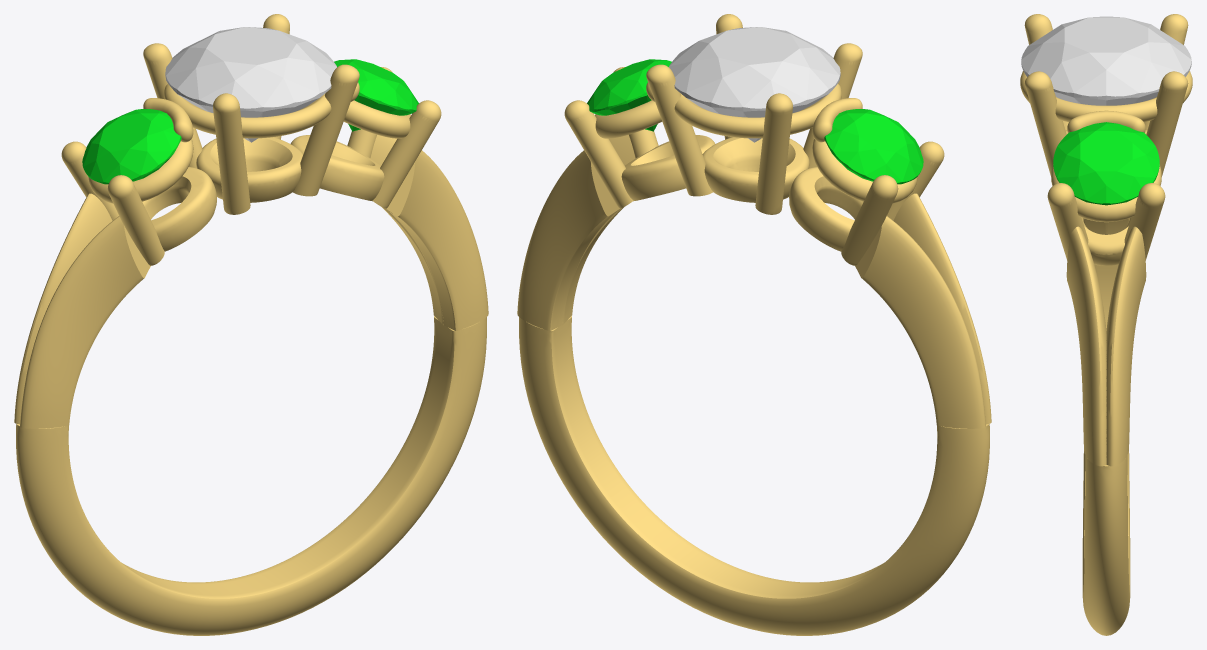
Rendered from MitchV2split_blender.glb.
3 renders of one model, left to right at view 1: azimuth 30°, elevation 25°; view 2: azimuth 150°, elevation 25°; view 3: azimuth 270°, elevation 25°, orthographic.
Visible parts, largest first — view 1: V2 Mitch YG split band for 3d model, Mitch dia for 3d model, Mitch emerald for 3d model.001, Mitch emerald for 3d model; view 2: V2 Mitch YG split band for 3d model, Mitch dia for 3d model, Mitch emerald for 3d model.001, Mitch emerald for 3d model; view 3: V2 Mitch YG split band for 3d model, Mitch dia for 3d model, Mitch emerald for 3d model.
Part boxes in pixels (x1,y1,x2,y2): V2 Mitch YG split band for 3d model: [14, 14, 488, 635]; Mitch dia for 3d model: [165, 27, 336, 142]; Mitch emerald for 3d model.001: [82, 109, 181, 184]; Mitch emerald for 3d model: [334, 59, 418, 131]; V2 Mitch YG split band for 3d model: [517, 14, 991, 635]; Mitch dia for 3d model: [669, 27, 840, 142]; Mitch emerald for 3d model.001: [824, 109, 923, 184]; Mitch emerald for 3d model: [587, 59, 671, 131]; V2 Mitch YG split band for 3d model: [1020, 14, 1192, 635]; Mitch dia for 3d model: [1021, 16, 1191, 105]; Mitch emerald for 3d model: [1053, 122, 1159, 205].
Bounding box in the file's own units: 20.1 × 23.89 × 6.49.
